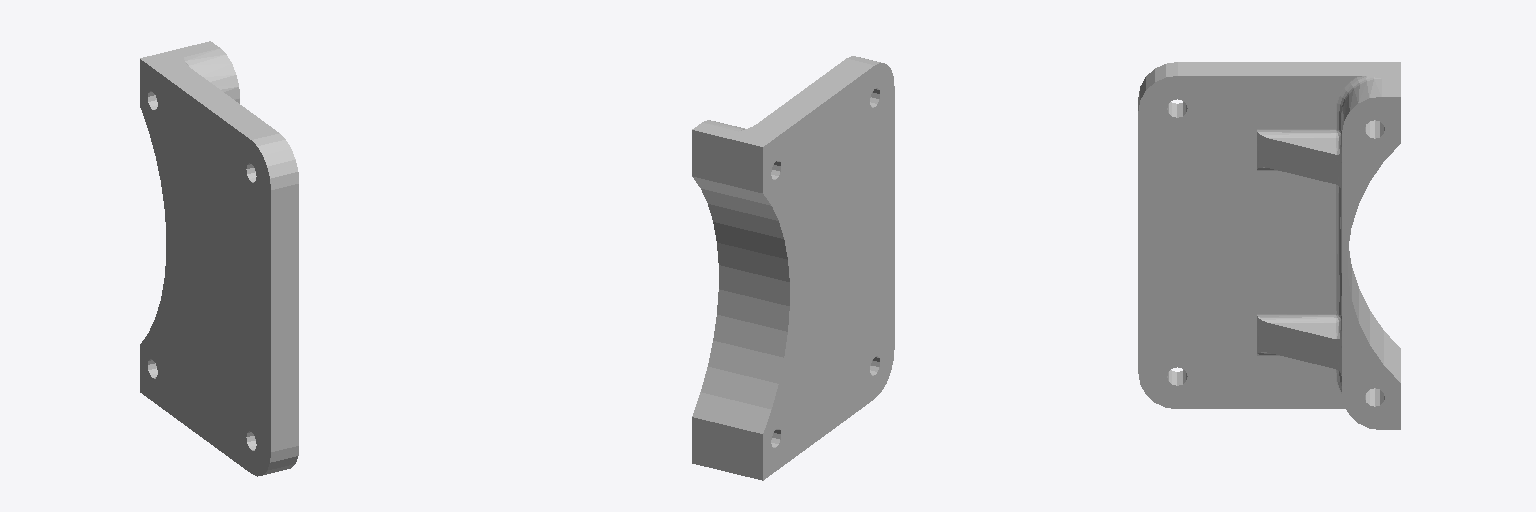
File: stand_d435.obj
3 renders of one model, left to right at view 1: azimuth 30°, elevation 25°; view 2: azimuth 150°, elevation 25°; view 3: azimuth 270°, elevation 25°, orthographic.
Visible parts, largest first — view 1: link6; view 2: link6; view 3: link6.
Boxes of the visible parts, box(x1,y1,x2,y2) form: link6: box(140, 41, 298, 476); link6: box(692, 56, 894, 480); link6: box(1138, 62, 1400, 429).
Bounding box in the file's own units: 0.0196 × 0.057 × 0.0431.